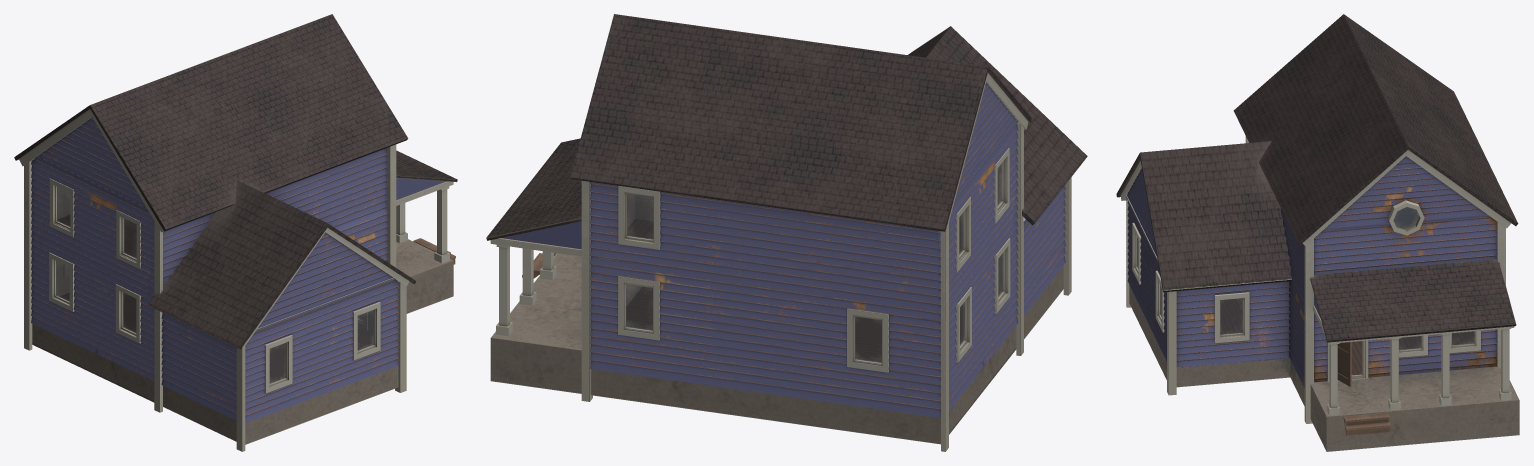
Rendered from suburban-blue-y0.glb.
3 views of the same model, side by side, from view 1: azimuth 30°, elevation 25°; view 2: azimuth 150°, elevation 25°; view 3: azimuth 270°, elevation 25° (orthographic). The views are drawn at different scales.
Visible parts, largest first — view 1: Plane.012, Plane.035, Plane.017, Cube.044, Cube.023; view 2: Plane.012, Plane.035, Plane.017, Cube.044, Cube.023; view 3: Plane.012, Plane.035, Plane.017, Cube.044, Cube.023.
Part boxes in pixels (box(x1,y1,x2,y2)): Plane.012: box(14, 14, 457, 451); Plane.035: box(31, 117, 398, 422); Plane.017: box(32, 156, 453, 444); Cube.044: box(49, 178, 455, 393); Cube.023: box(56, 187, 373, 383); Plane.012: box(486, 14, 1087, 451); Plane.035: box(590, 82, 1065, 417); Plane.017: box(490, 120, 1063, 444); Cube.044: box(496, 148, 1010, 372); Cube.023: box(626, 163, 1003, 362); Plane.012: box(1116, 14, 1518, 423); Plane.035: box(1127, 156, 1497, 387); Plane.017: box(1125, 195, 1519, 451); Cube.044: box(1132, 200, 1511, 435); Cube.023: box(1136, 237, 1474, 350).
Bounding box in the file's own units: 11.5 × 7.84 × 10.52.
6 materials, 5 textured.
